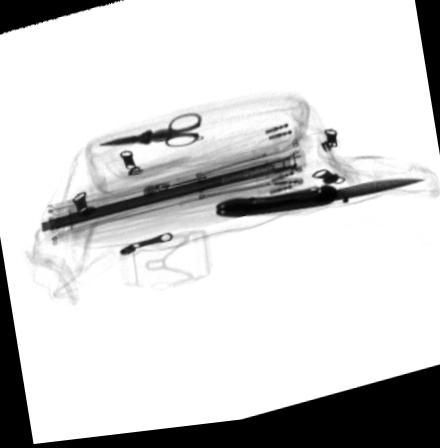Knife: (214, 188, 426, 221)
Scissors: (99, 117, 203, 152)
